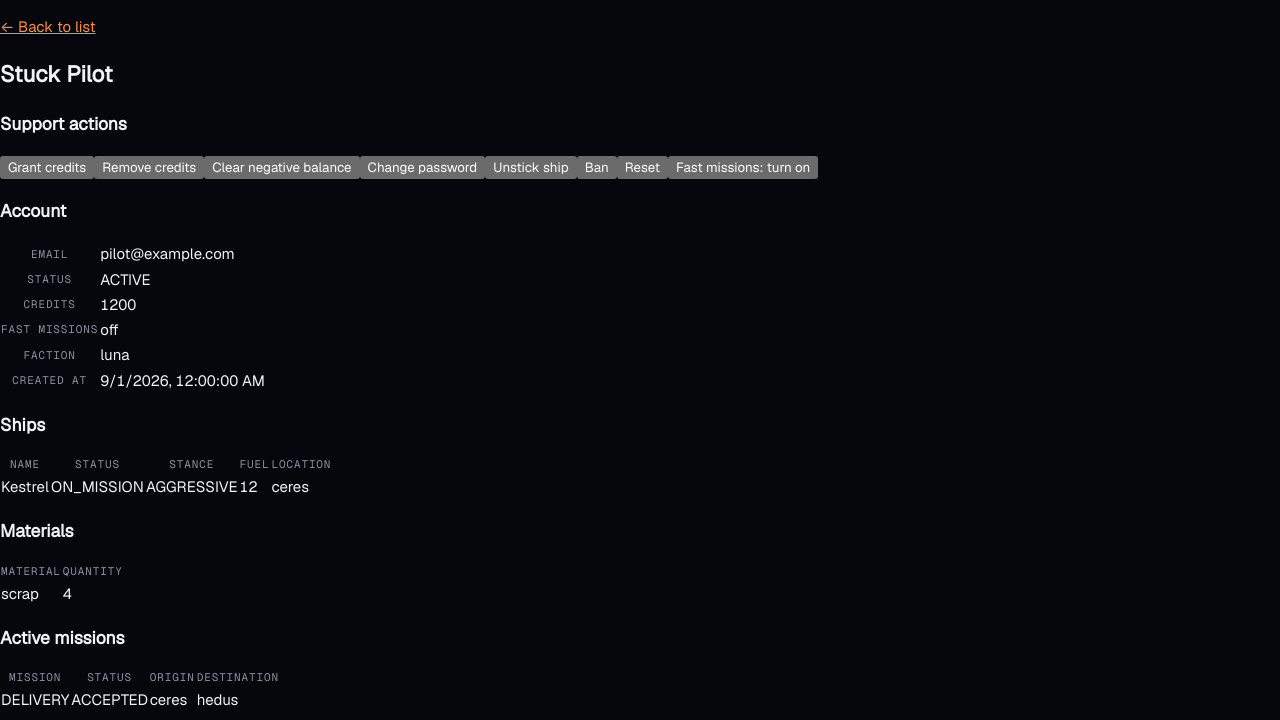
Test case: support actions (S11.5, S11.4 acceptance) › requires a 10-128 char password and a reason before it can be sent
Click the button "Change password" at (422, 168), box [360,156,485,179]
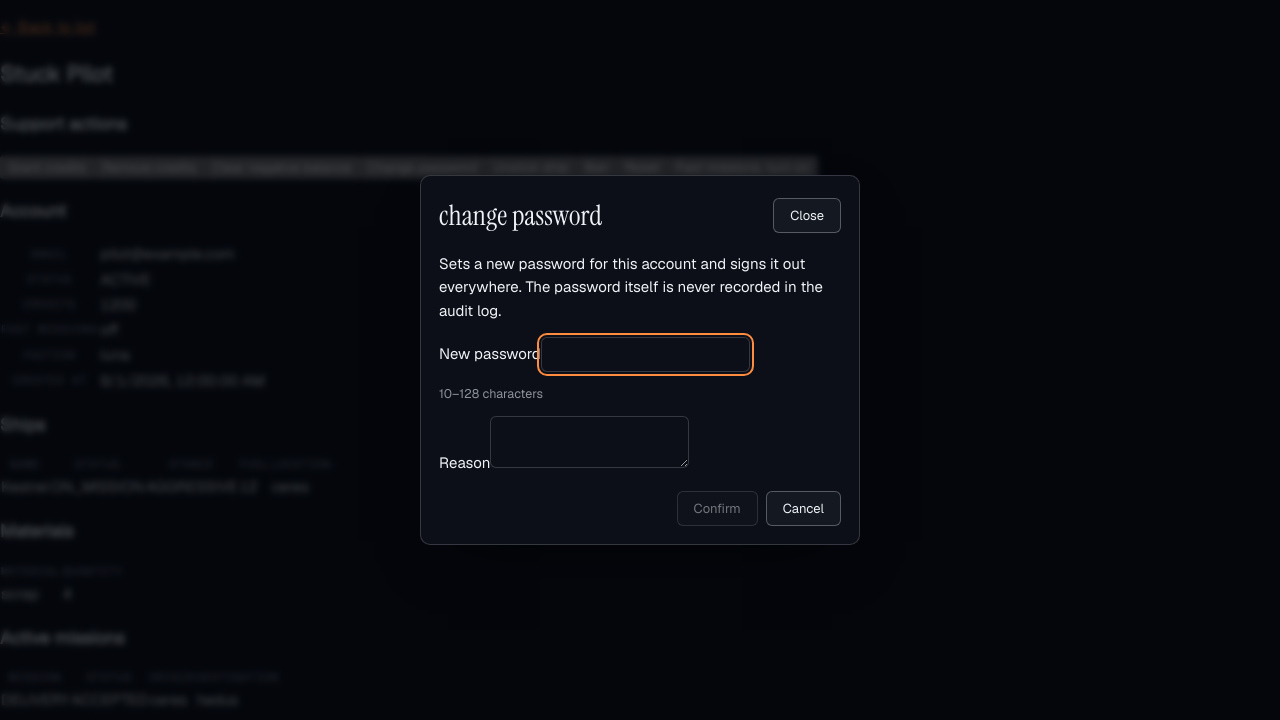
Now the button "Confirm" is disabled, box [677,491,758,526]
Type "too-short" into the field labelled "New password" at (645, 354), box [541,337,750,372]
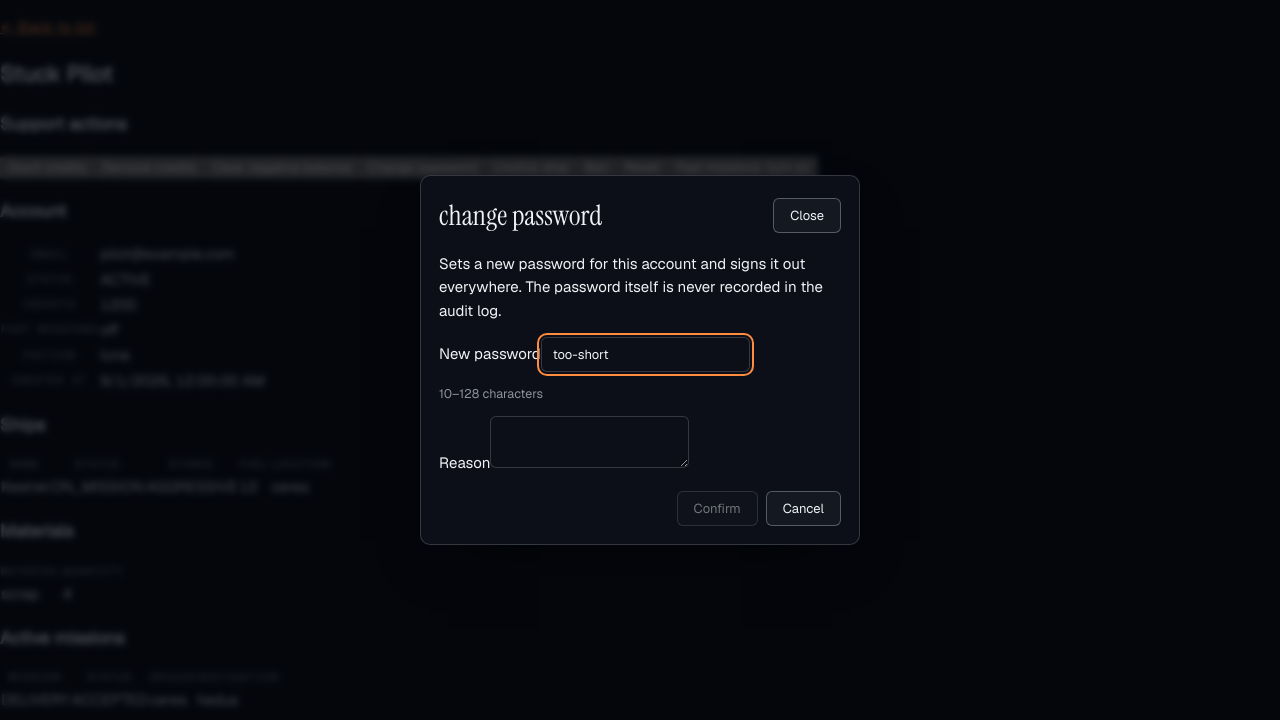
Type "pilot locked out" into the text box labelled "Reason" at (590, 442), box [490,416,689,468]
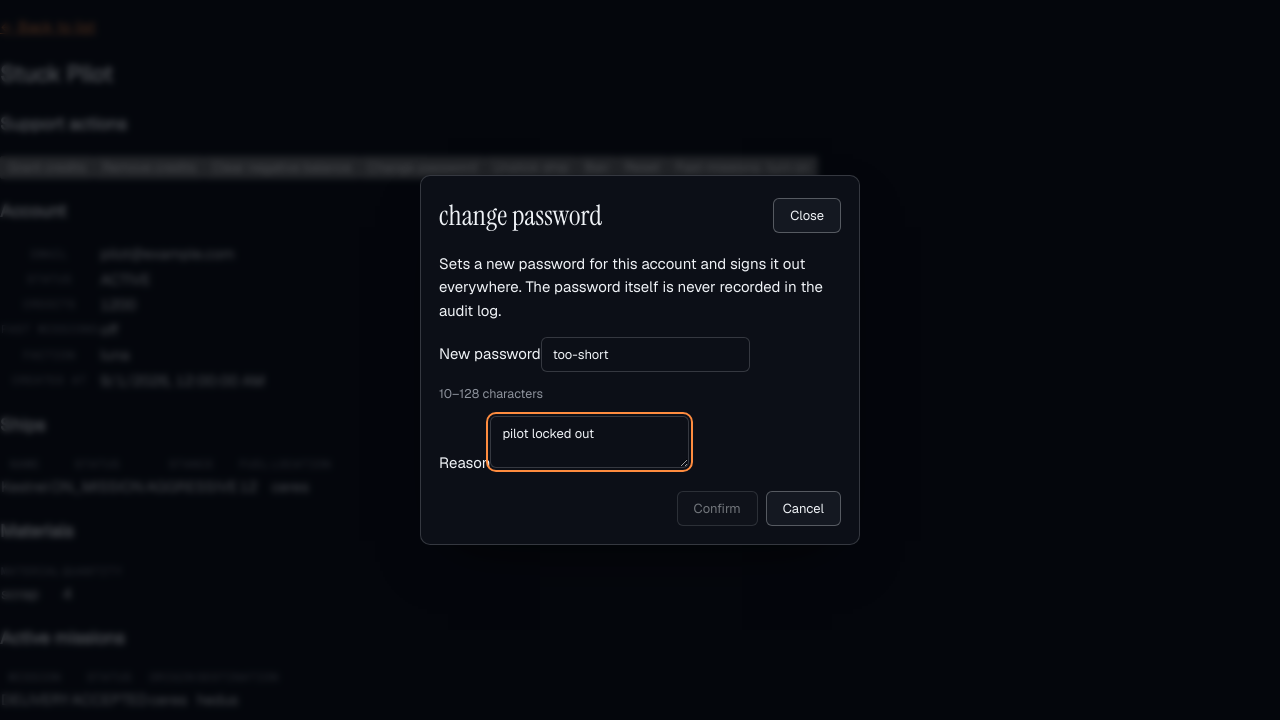
Now the button "Confirm" is disabled, box [677,491,758,526]
Type "-still-more" into the field labelled "New password" at (645, 354), box [541,337,750,372]
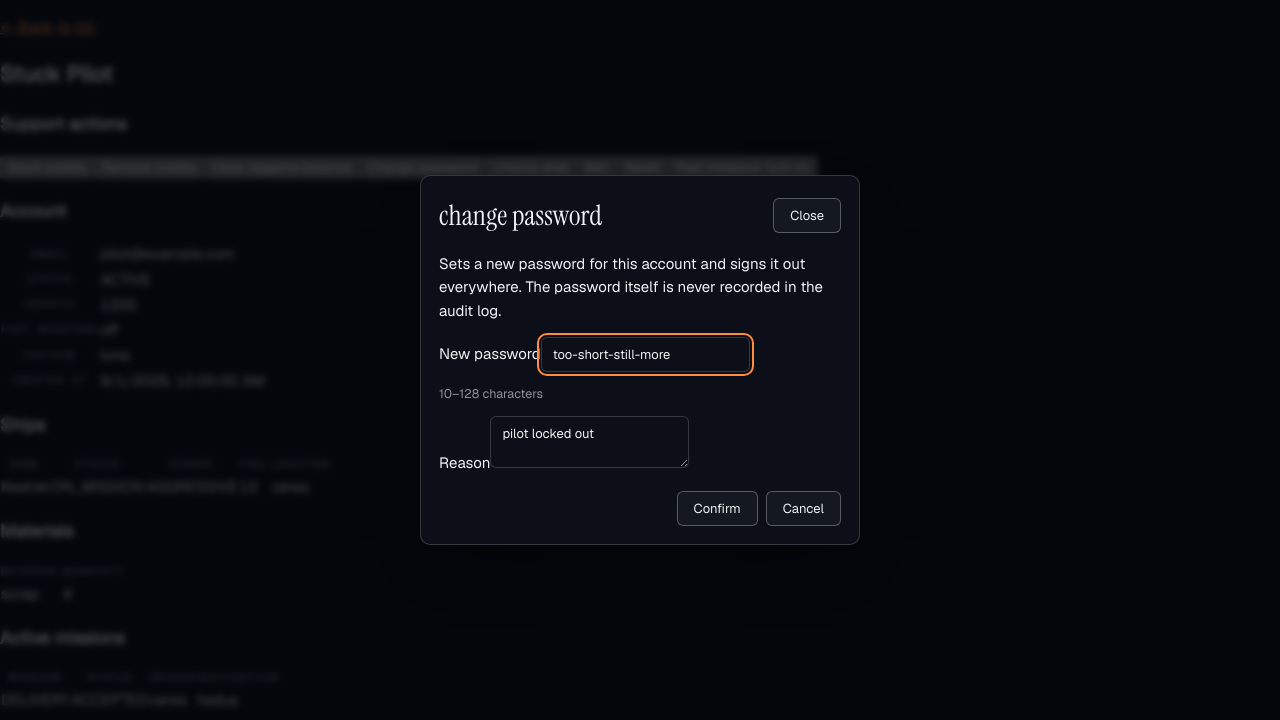
Now the button "Confirm" is enabled
Click the button "Confirm" at (717, 508), box [677,491,758,526]
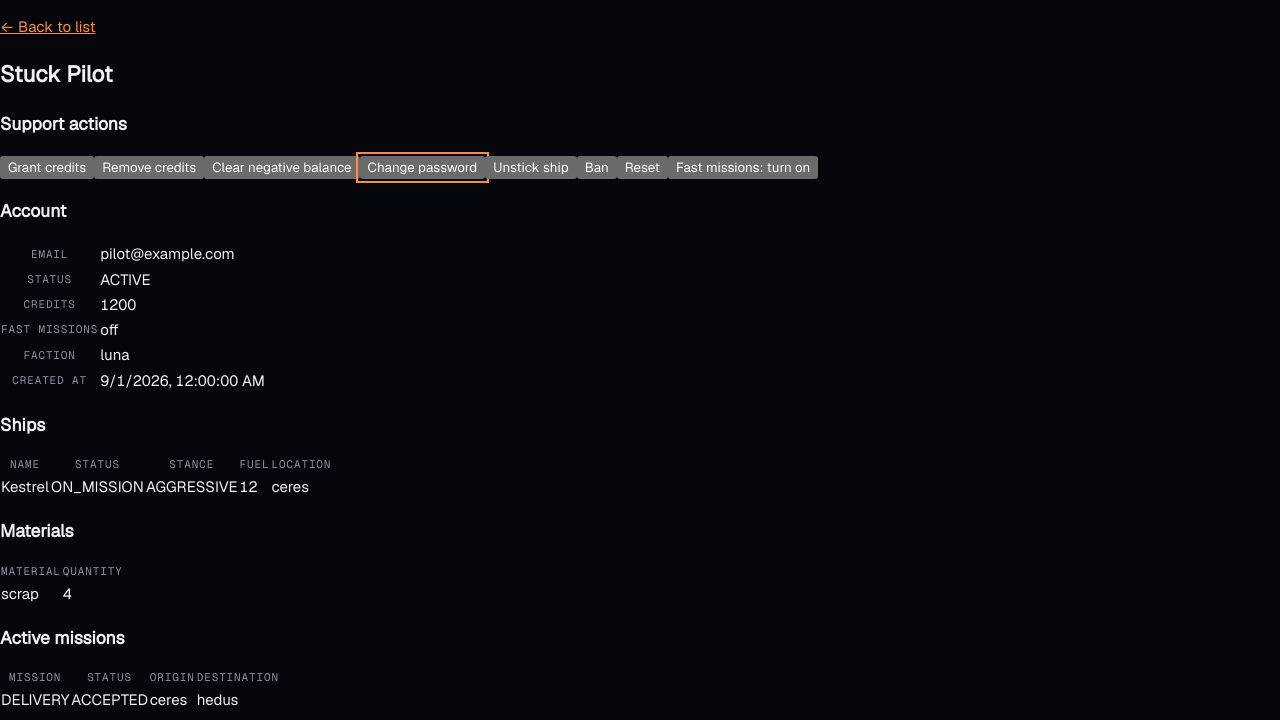
Now the dialog is gone
